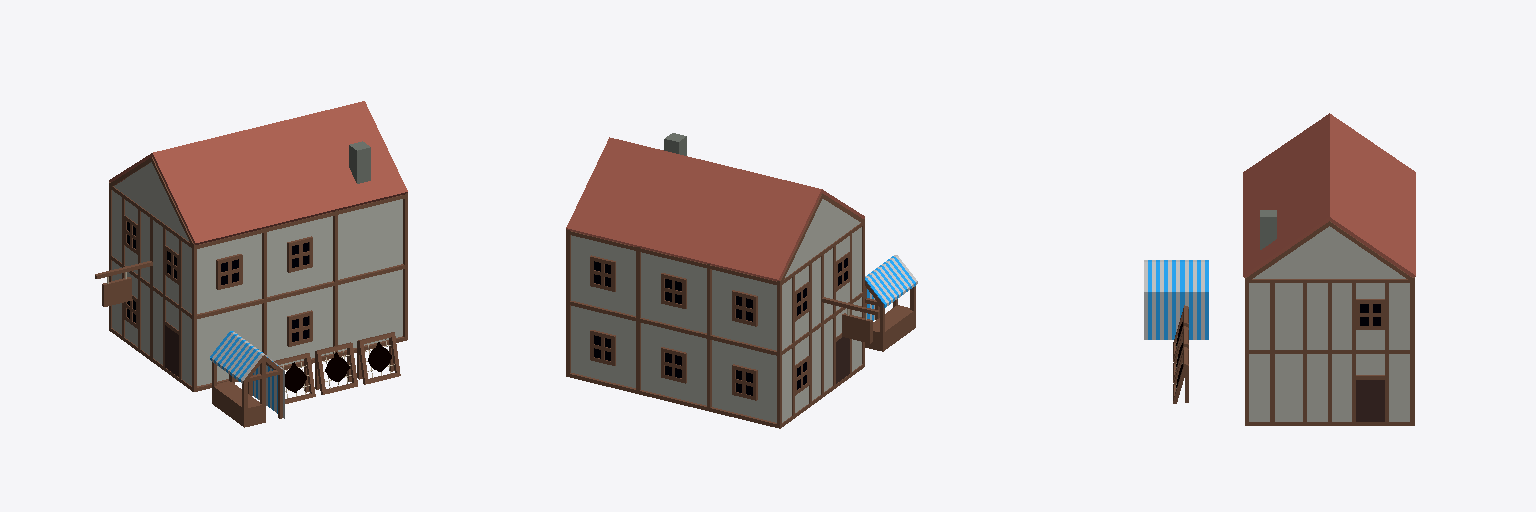
Rendered from timberframedtanner_blue_white.obj.
3 views of the same model, side by side, from view 1: azimuth 30°, elevation 25°; view 2: azimuth 150°, elevation 25°; view 3: azimuth 270°, elevation 25° (orthographic).
Visible parts, largest first — view 1: Cube.005, Cube.007_Cube.011, Cylinder.001_Cylinder.008, Cylinder.003_Cylinder.001, Cylinder.004_Cylinder.009, Cube.011_Cube.015, Cube.018_Cube.016, Cube.056_Cube.081, Cube.001_Cube.058, Cube.013_Cube.080, Cube.006_Cube.010, Cube.026_Cube.019 (+7 smaller); view 2: Cube.005, Cube.007_Cube.011, Cube.023_Cube.026, Cube.022_Cube.025, Cube.021_Cube.024, Cube.015_Cube.020, Cube.019_Cube.022, Cube.017_Cube.021, Cube.014_Cube.018, Cube.008, Cube.020_Cube.023, Cube.073_Cube.078 (+6 smaller); view 3: Cube.005, Cube.007_Cube.011, Cube.147_Cube.153, Cube.003, Cube.033, Cube.027, Cube.047_Cube.049, Cube.016_Cube.013, Cube.031, Cube.006_Cube.010, Cube.032, Cylinder.001_Cylinder.008 (+5 smaller).
Part boxes in pixels (x1,y1,x2,y2): Cube.005: (112, 162, 402, 385); Cube.007_Cube.011: (109, 101, 407, 244); Cylinder.001_Cylinder.008: (357, 332, 400, 384); Cylinder.003_Cylinder.001: (315, 342, 357, 394); Cylinder.004_Cylinder.009: (274, 353, 315, 403); Cube.011_Cube.015: (195, 264, 406, 319); Cube.018_Cube.016: (195, 195, 406, 249); Cube.056_Cube.081: (216, 254, 242, 289); Cube.001_Cube.058: (287, 310, 312, 346); Cube.013_Cube.080: (287, 236, 312, 272); Cube.006_Cube.010: (349, 141, 370, 183); Cube.026_Cube.019: (192, 243, 196, 391); Cube.005: (571, 199, 861, 422); Cube.007_Cube.011: (566, 137, 864, 280); Cube.023_Cube.026: (567, 373, 779, 427); Cube.022_Cube.025: (567, 301, 776, 355); Cube.021_Cube.024: (567, 231, 777, 284); Cube.015_Cube.020: (732, 290, 757, 326); Cube.019_Cube.022: (661, 347, 686, 383); Cube.017_Cube.021: (590, 330, 615, 365); Cube.014_Cube.018: (661, 273, 686, 308); Cube.008: (590, 255, 615, 291); Cube.020_Cube.023: (732, 364, 757, 400); Cube.073_Cube.078: (842, 313, 872, 343); Cube.005: (1249, 226, 1409, 421); Cube.007_Cube.011: (1243, 113, 1415, 277); Cube.147_Cube.153: (1144, 292, 1208, 339); Cube.003: (1356, 380, 1384, 421); Cube.033: (1356, 299, 1384, 329); Cube.027: (1410, 277, 1414, 425); Cube.047_Cube.049: (1270, 279, 1274, 423); Cube.016_Cube.013: (1248, 350, 1410, 353); Cube.031: (1248, 422, 1410, 425); Cube.006_Cube.010: (1260, 210, 1276, 249); Cube.032: (1248, 279, 1410, 282); Cylinder.001_Cylinder.008: (1173, 347, 1188, 403).
Size of the model in its own units: 15.3 by 11.25 by 13.34.